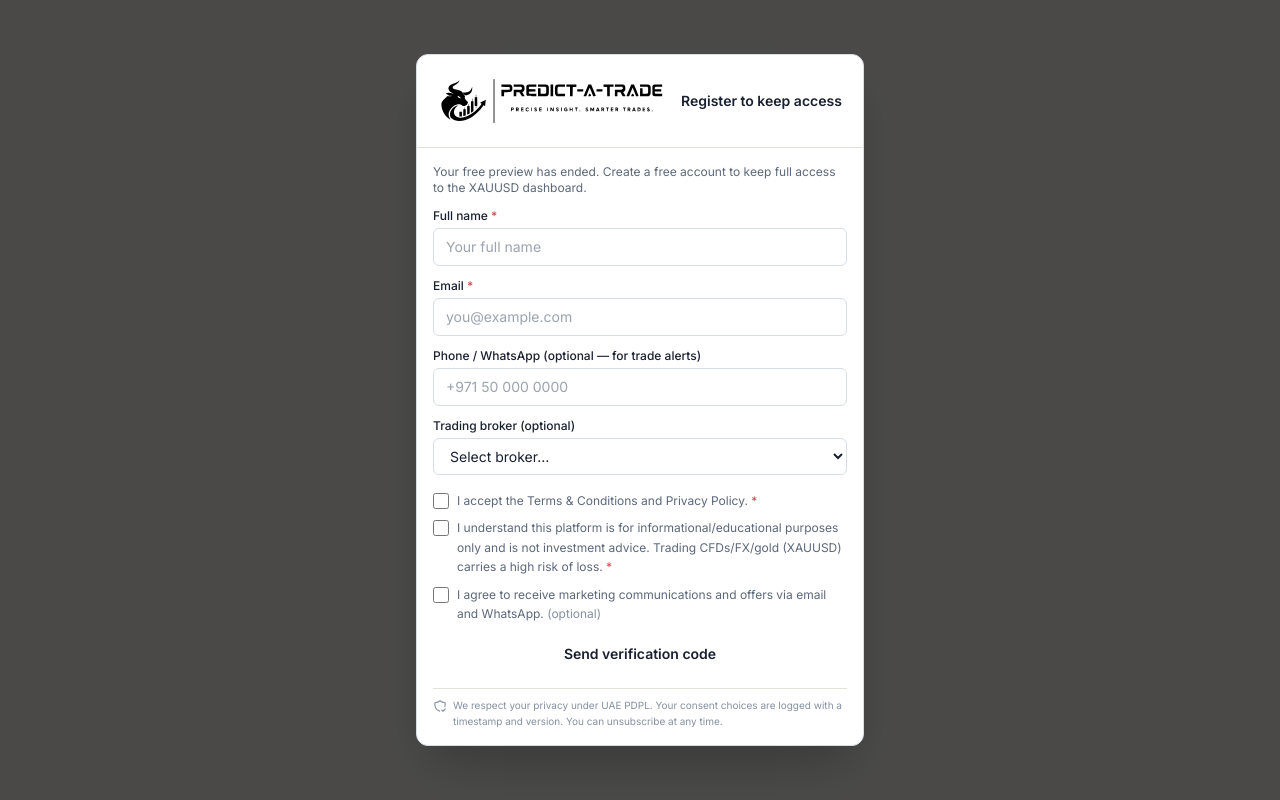
Test: RegistrationModal › shows the free-text broker input when 'Other/None' is selected
Select "Other/None" in the dropdown at (640, 456), box [433,438,847,475]
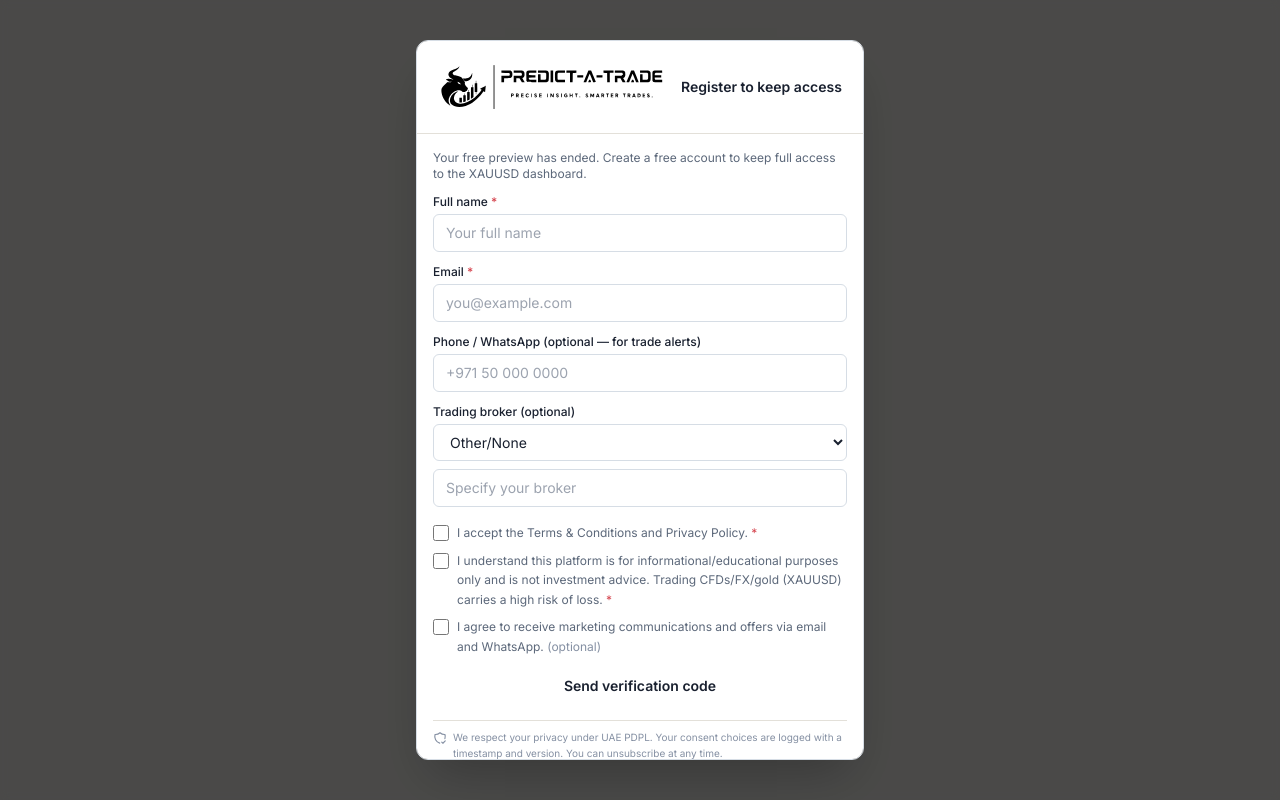
Expected: the field with placeholder "Specify your broker" is shown, [433,469,847,507]
